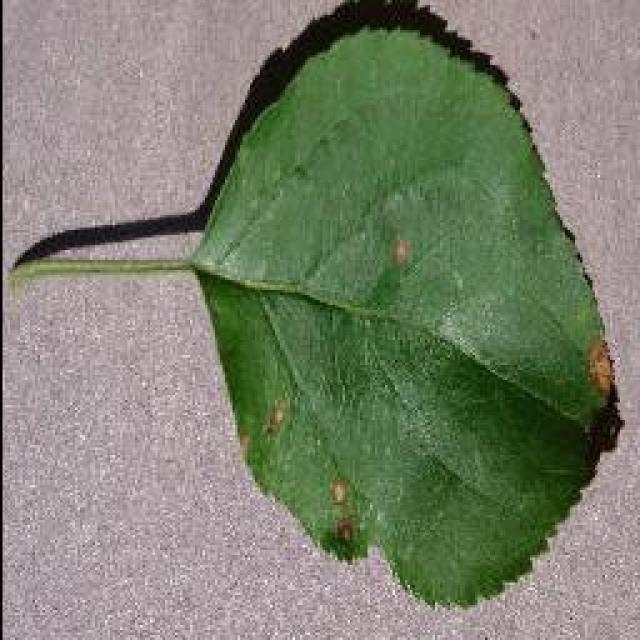apple healthy: (7, 0, 625, 610)
